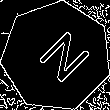N_SW: (24, 24, 89, 89)
